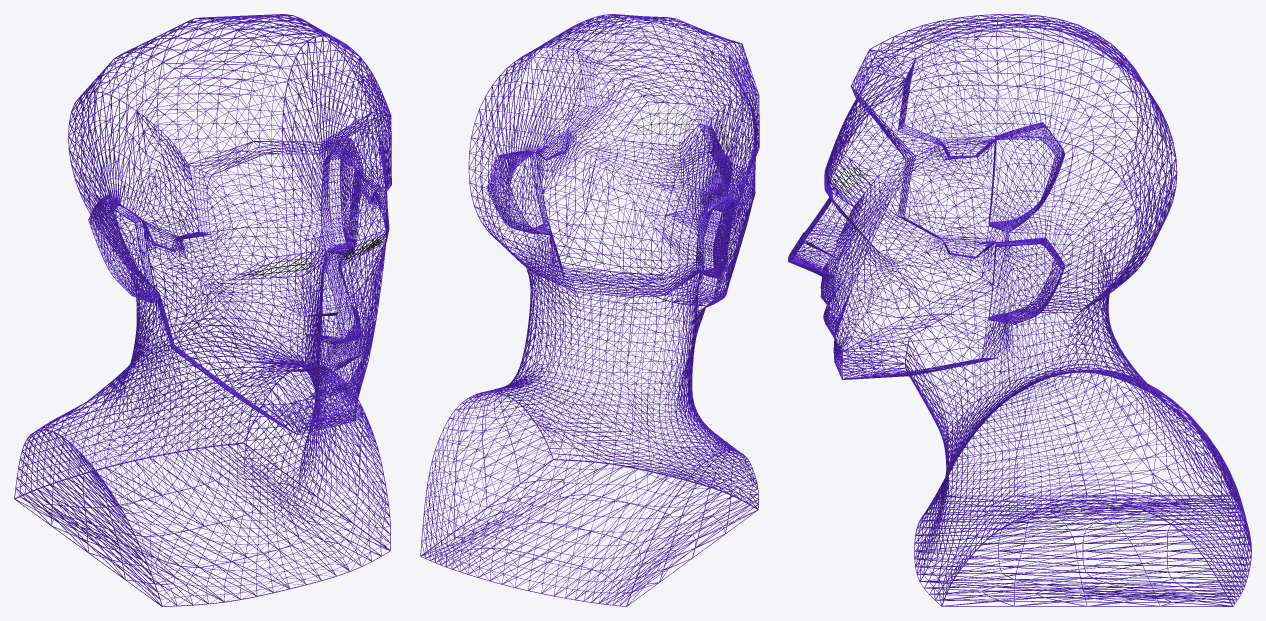
The model's file is head2.glb.
3 views of the same model, side by side, from view 1: azimuth 30°, elevation 25°; view 2: azimuth 150°, elevation 25°; view 3: azimuth 270°, elevation 25° (orthographic). The views are drawn at different scales.
Parts seen in each view (by area): view 1: Secondary_Planes_of_the_Head; view 2: Secondary_Planes_of_the_Head; view 3: Secondary_Planes_of_the_Head.
Part boxes in pixels (x1=…): Secondary_Planes_of_the_Head: x1=14, y1=14, x2=391, y2=606; Secondary_Planes_of_the_Head: x1=420, y1=14, x2=759, y2=606; Secondary_Planes_of_the_Head: x1=788, y1=14, x2=1251, y2=606.
Bounding box in the file's own units: 0.1928 × 0.3546 × 0.289.
